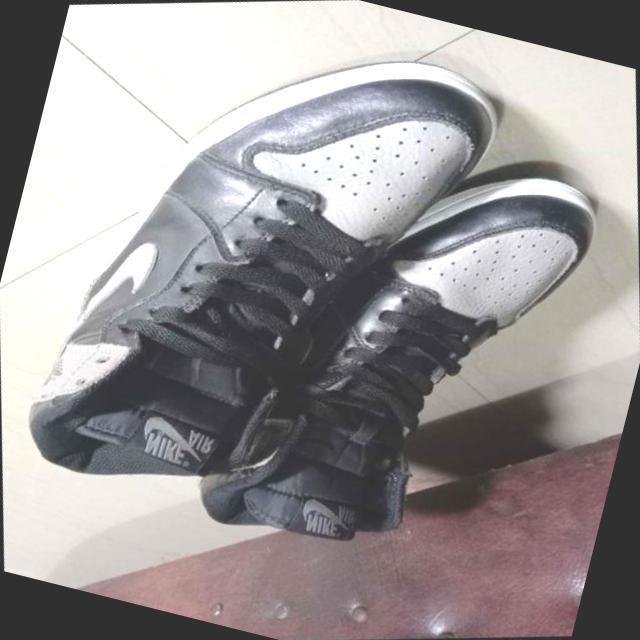nike_fake_jordan: (0, 0, 606, 592), (110, 83, 640, 636)
